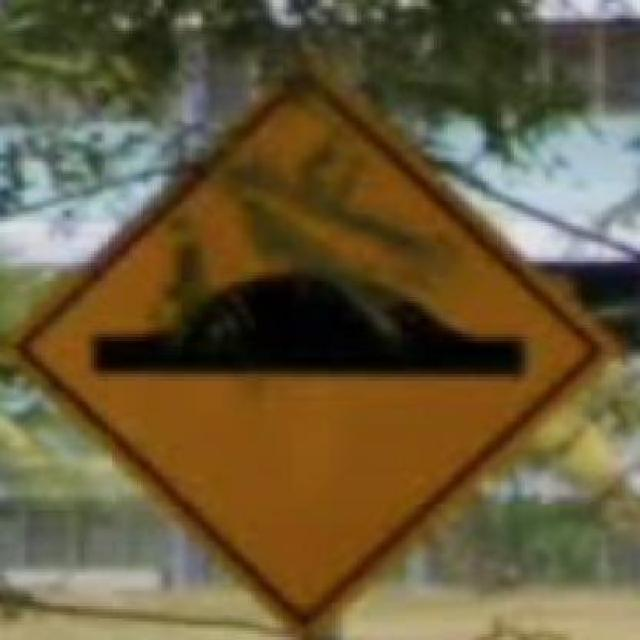Polisi Tidur: (0, 34, 632, 640)
